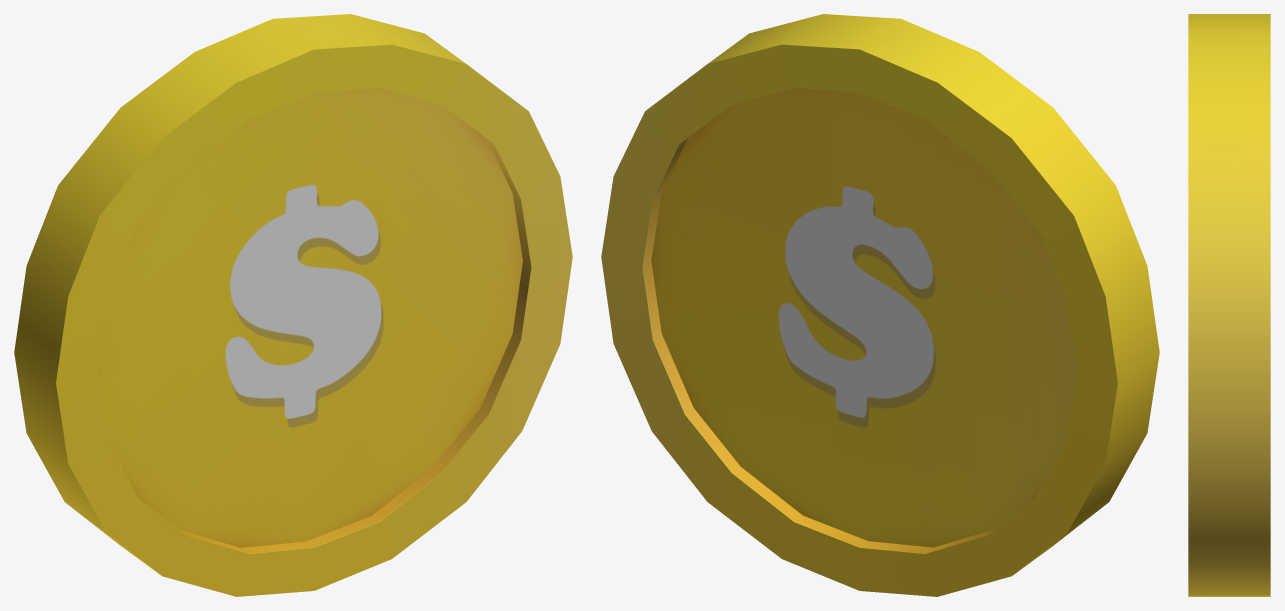
The model's file is Coins.fbx.
3 views of the same model, side by side, from view 1: azimuth 30°, elevation 25°; view 2: azimuth 150°, elevation 25°; view 3: azimuth 270°, elevation 25° (orthographic).
Visible parts, largest first — view 1: Coins_geo; view 2: Coins_geo; view 3: Coins_geo.
Part boxes in pixels (x1=…): Coins_geo: x1=14, y1=14, x2=572, y2=596; Coins_geo: x1=601, y1=14, x2=1159, y2=596; Coins_geo: x1=1188, y1=14, x2=1270, y2=596.
Bounding box in the file's own units: 5.86 × 5.87 × 0.8206.
1 material, 1 textured.
